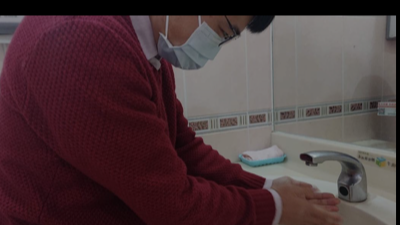with_mask: (154, 16, 245, 72)
